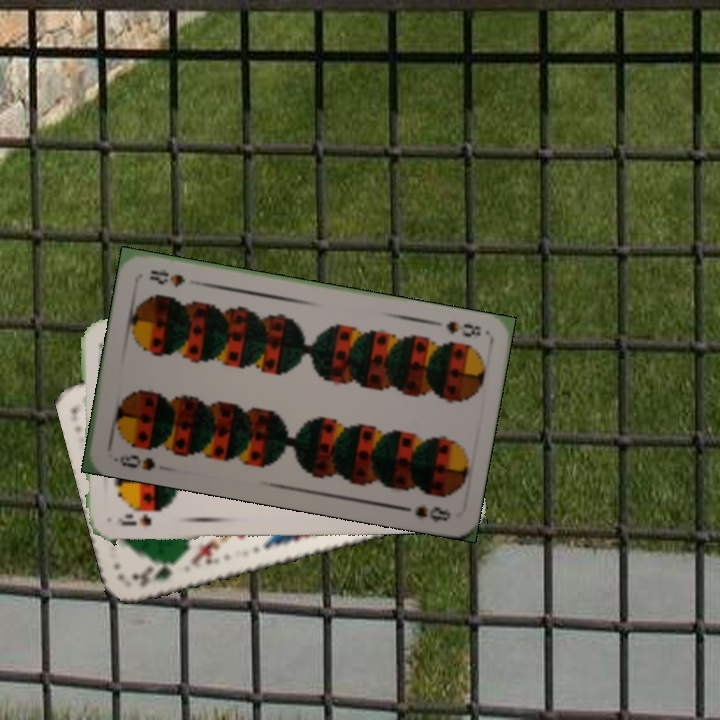GK: (128, 555, 183, 590)
S8: (109, 450, 158, 473), (442, 317, 484, 341)
SO: (115, 507, 165, 529)
